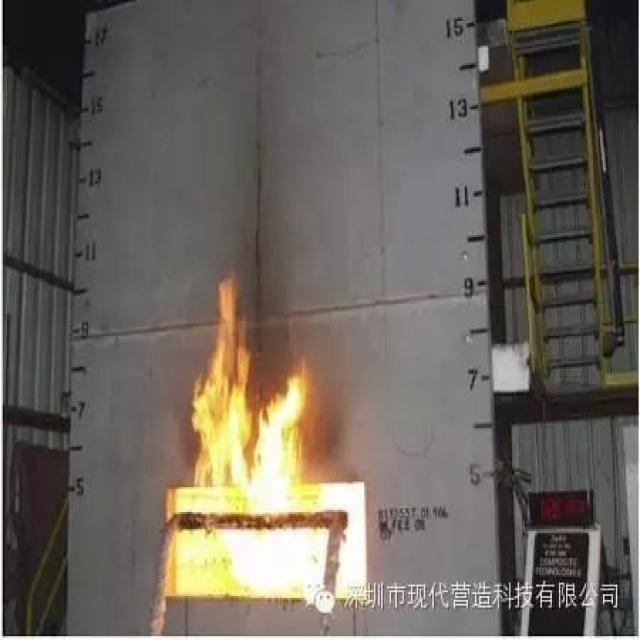Fire: (167, 270, 366, 600)
